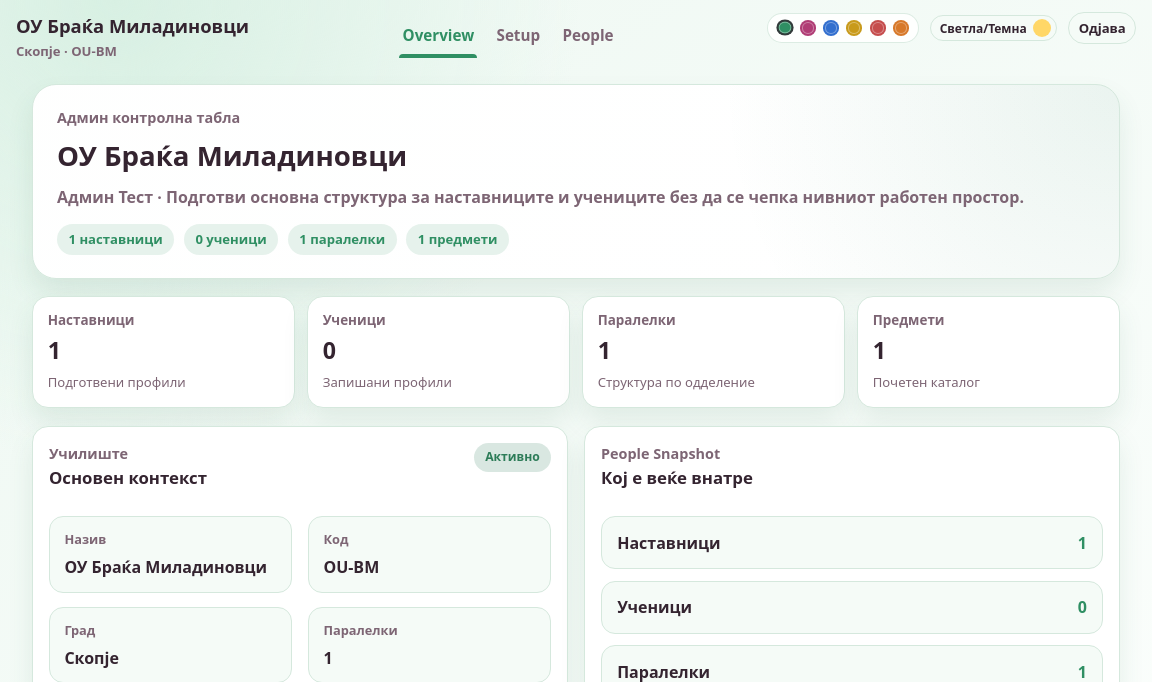
schedule editor falls back to assigned teacher roster when schedule payload teacher options are incomplete
This screenshot has width=1152, height=682.
Click the button "Setup": (518, 36) [493,14,543,58]
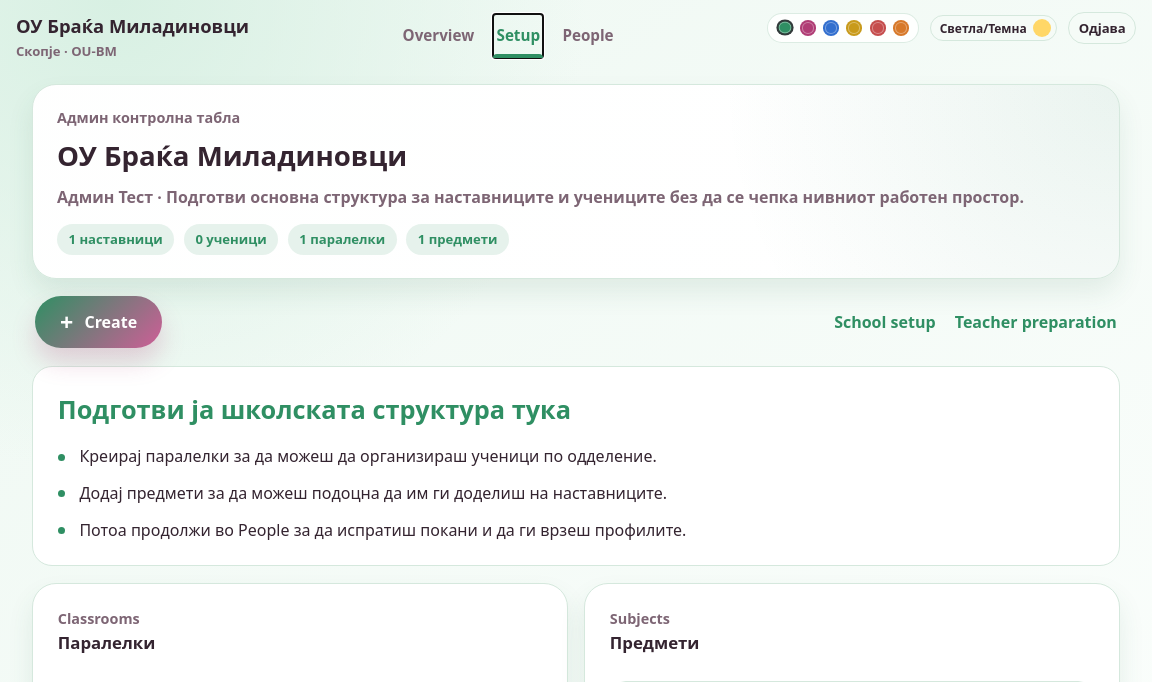
Click the button "+ Create": (99, 322) [35,296,162,348]
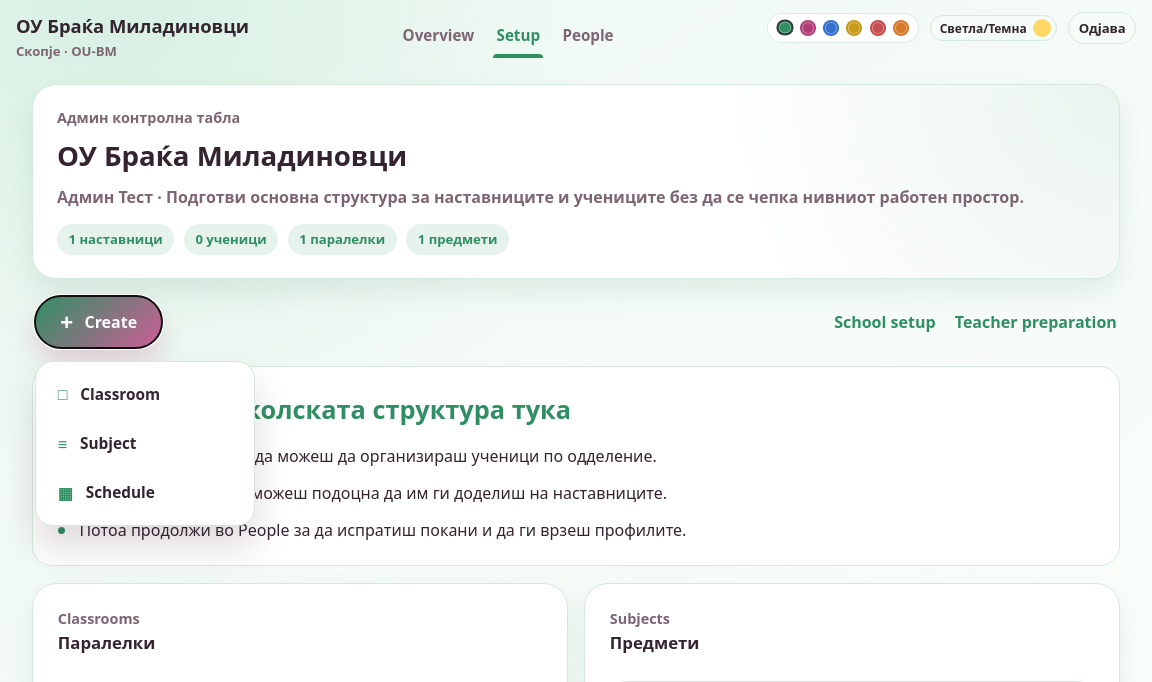
Click the button "▦ Schedule": (145, 493) [45,469,245,516]
(page scrolled)
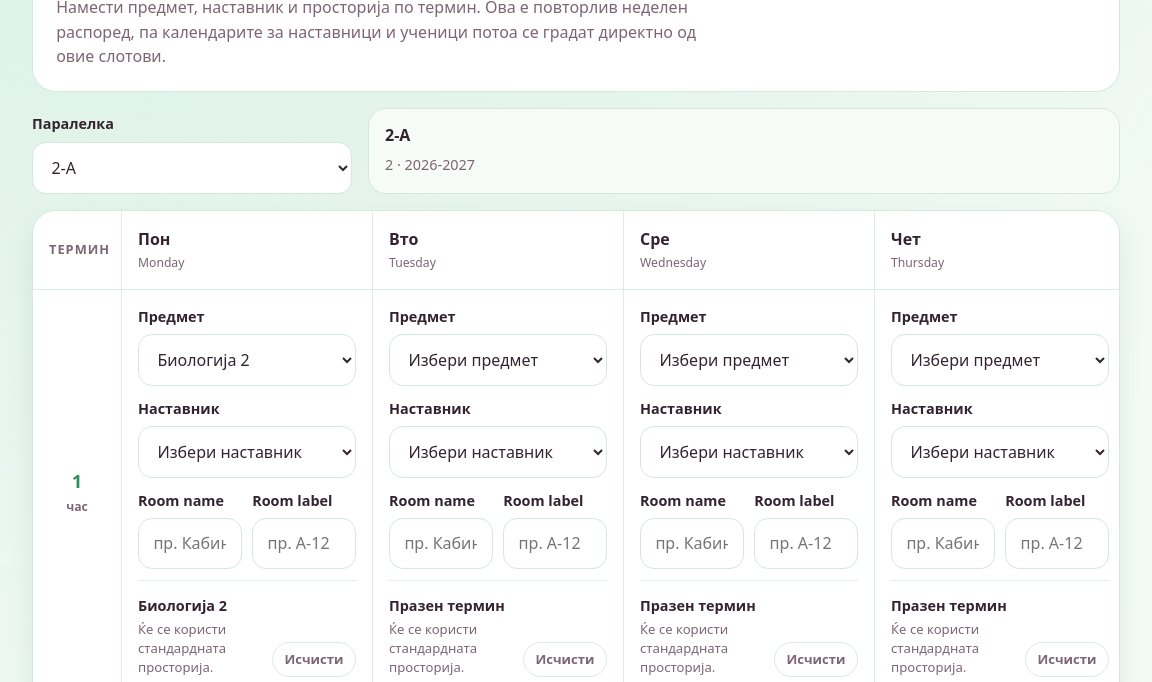
Now the 1st dropdown showing "Биологија 2" is shown, box [138,334,356,386]
